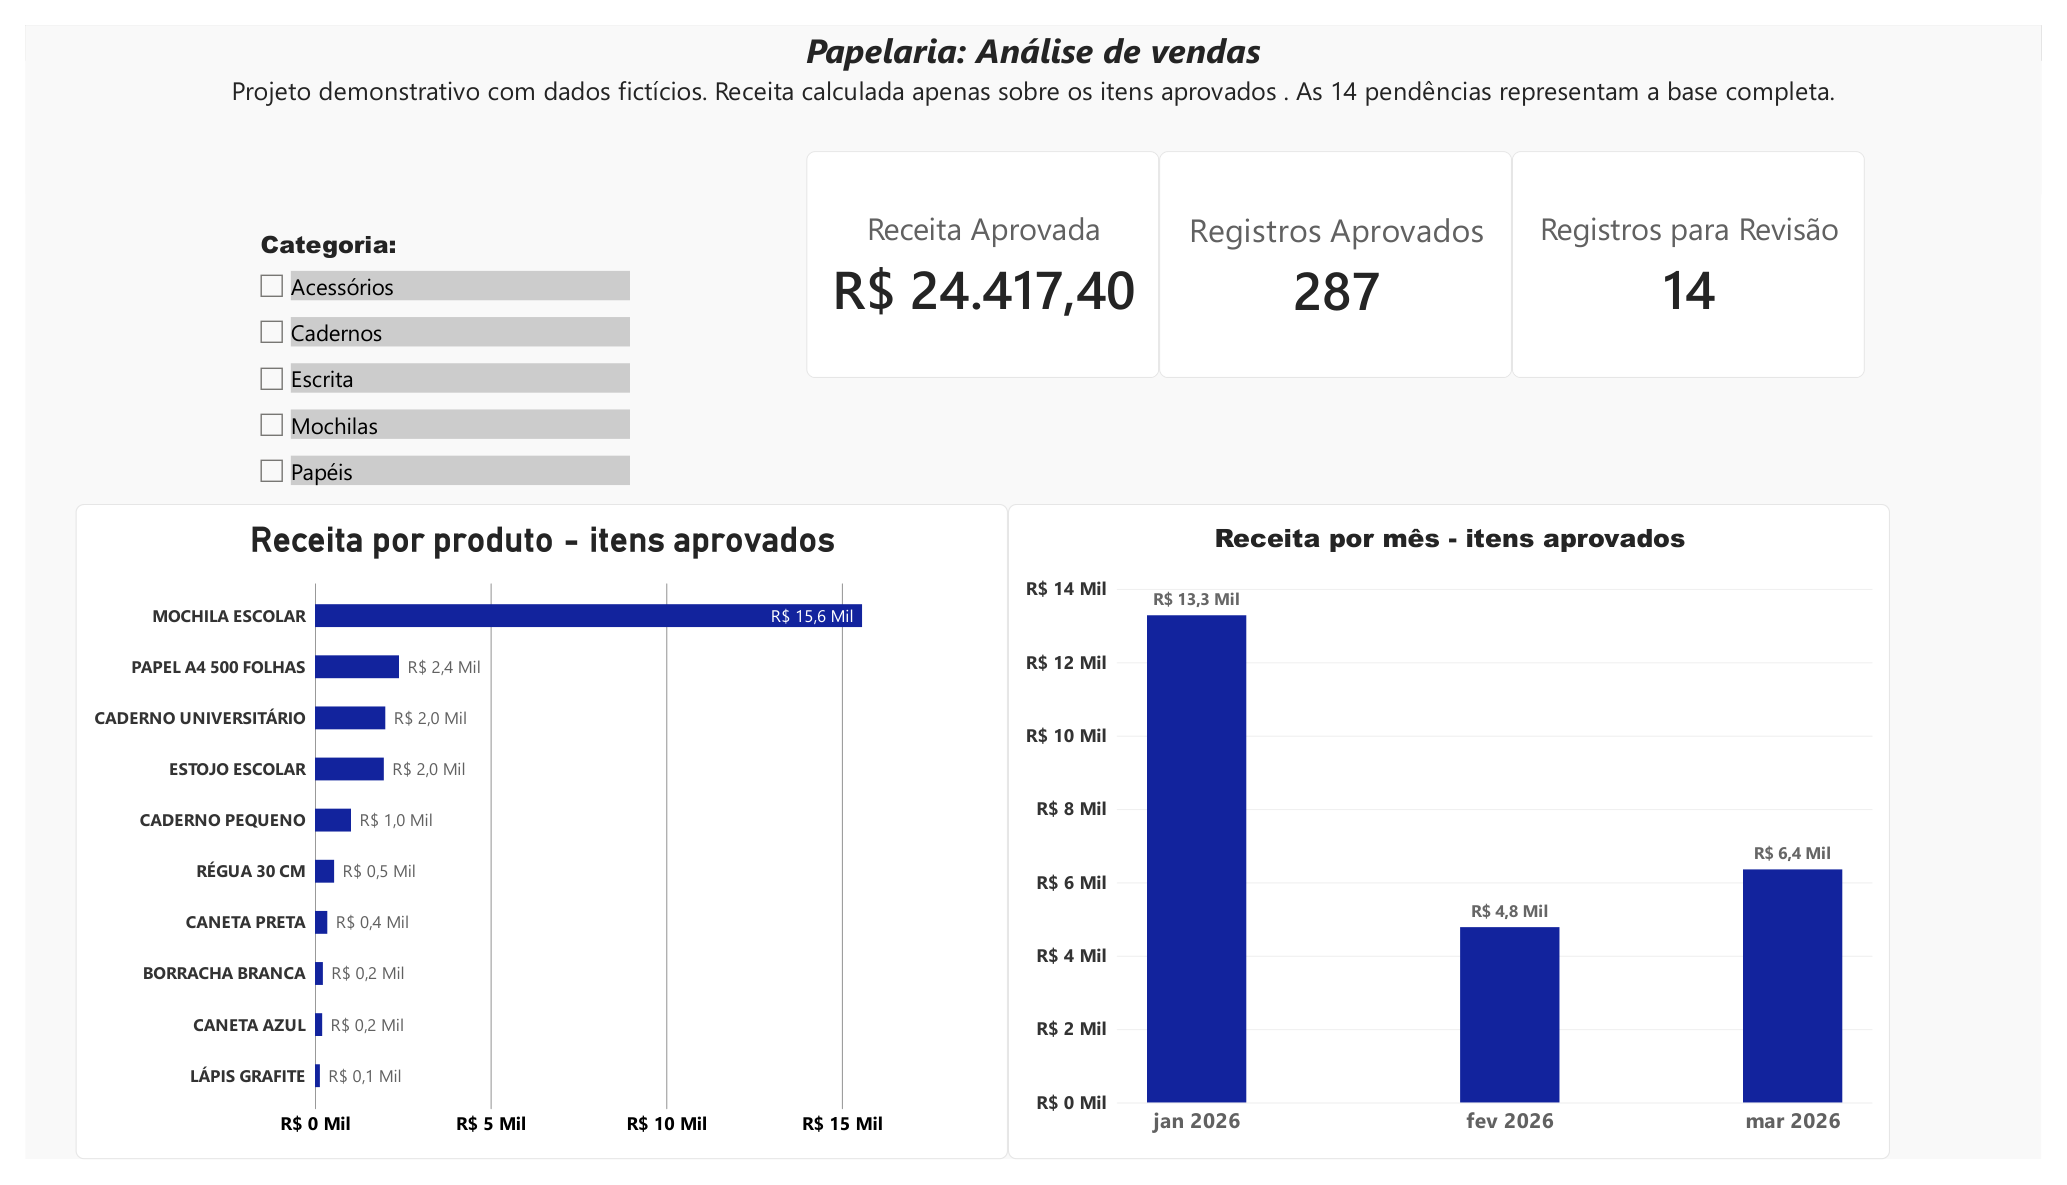

This screenshot's page, from the dashboard's own definition file:
{"tool":"powerbi","page":{"name":"Visão de Vendas","canvas":[1920,1080],"ordinal":0},"visuals":[{"type":"cardVisual","fields":{"Data":["Vendas_Aprovadas.Receita Aprovada"]},"box":[744,120,336,216],"z":0},{"type":"cardVisual","fields":{"Data":["Vendas_Aprovadas.Registros para Revisão"]},"box":[1416,120,336,216],"z":1},{"type":"cardVisual","fields":{"Data":["Vendas_Aprovadas.Registros Aprovados"]},"box":[1080,120,336,216],"z":2},{"type":"barChart","title":"Receita por produto  - itens aprovados ","fields":{"Category":["Vendas_Aprovadas.produto"],"Y":["Vendas_Aprovadas.Receita Aprovada"]},"box":[48,456,888,624],"z":3},{"type":"columnChart","title":"Receita por mês - itens aprovados ","fields":{"Category":["Vendas_Aprovadas.Mes"],"Y":["Vendas_Aprovadas.Receita Aprovada"]},"box":[936,456,840,624],"z":4},{"type":"slicer","fields":{"Values":["Vendas_Aprovadas.categoria"]},"box":[216,192,360,264],"z":5},{"type":"textbox","box":[1536,216,168,240],"z":7},{"type":"textbox","box":[0,0,1920,120],"z":8}]}

Visuals, with their boxes in screenshot pixels (x1, y1, x2, y2), scaled from the page's 1920x1080 canvas onto the 2067x1185 screenshot:
cardVisual - Vendas_Aprovadas.Receita Aprovada: [x1=801, y1=132, x2=1163, y2=369]
cardVisual - Vendas_Aprovadas.Registros para Revisão: [x1=1524, y1=132, x2=1886, y2=369]
cardVisual - Vendas_Aprovadas.Registros Aprovados: [x1=1163, y1=132, x2=1524, y2=369]
"Receita por produto  - itens aprovados " barChart: [x1=52, y1=500, x2=1008, y2=1184]
"Receita por mês - itens aprovados " columnChart: [x1=1008, y1=500, x2=1912, y2=1184]
slicer - Vendas_Aprovadas.categoria: [x1=233, y1=211, x2=620, y2=500]
textbox: [x1=1654, y1=237, x2=1834, y2=500]
textbox: [x1=0, y1=0, x2=2066, y2=132]
